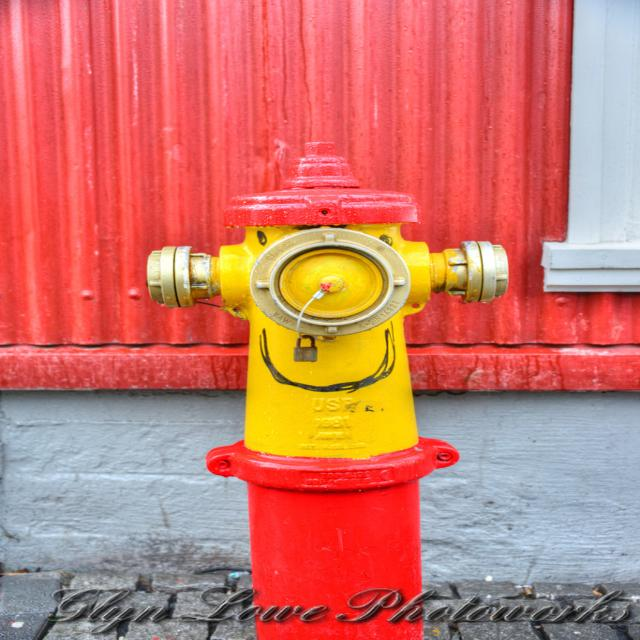fire_hydrant: (149, 138, 505, 639)
